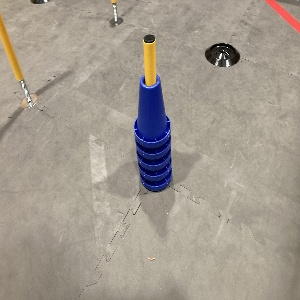Blue_5: (132, 72, 172, 193)
